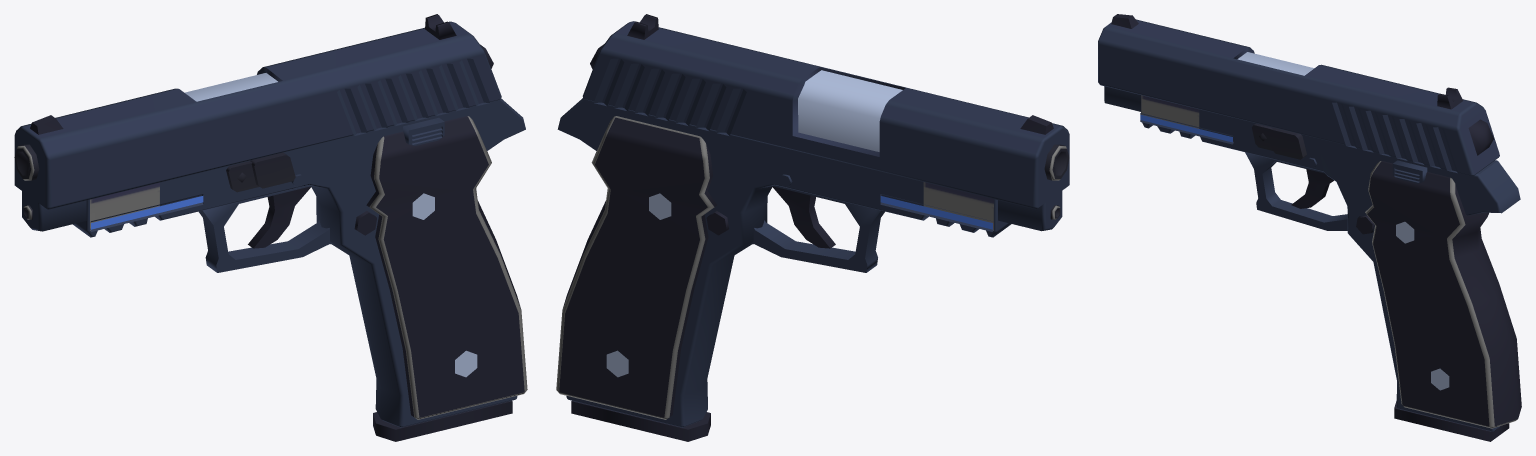
Rendered from Saori_Original_Handgun.obj.
3 views of the same model, side by side, from view 1: azimuth 30°, elevation 25°; view 2: azimuth 150°, elevation 25°; view 3: azimuth 330°, elevation 25° (orthographic). The views are drawn at different scales.
Parts seen in each view (by area): view 1: Saori_Original_Handgun; view 2: Saori_Original_Handgun; view 3: Saori_Original_Handgun.
Boxes of the visible parts, box(x1,y1,x2,y2) form: Saori_Original_Handgun: box(14, 14, 527, 441); Saori_Original_Handgun: box(556, 14, 1069, 441); Saori_Original_Handgun: box(1098, 14, 1521, 441).
Bounding box in the file's own units: 0.1519 × 0.1163 × 0.0208.
